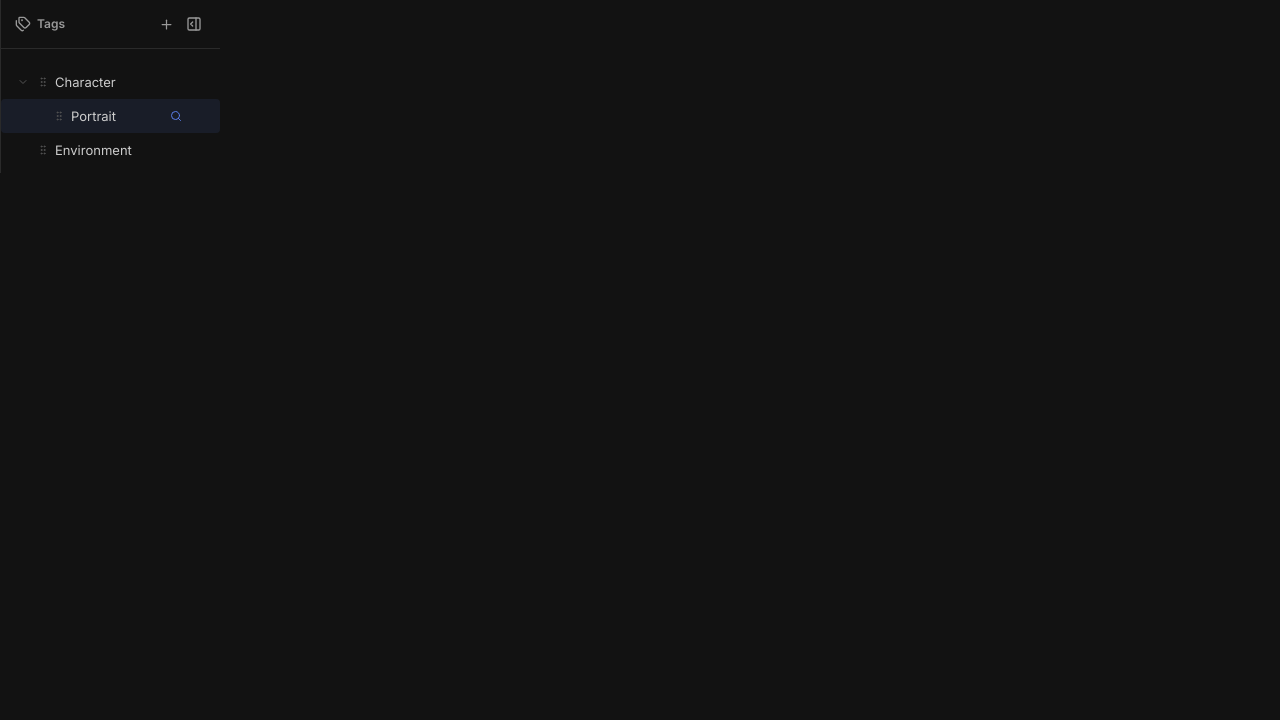
it: TagSidebar › opens and cancels the root create dialog
Click the button named "Create tag": (166, 24) left=155, top=12, right=178, bottom=36
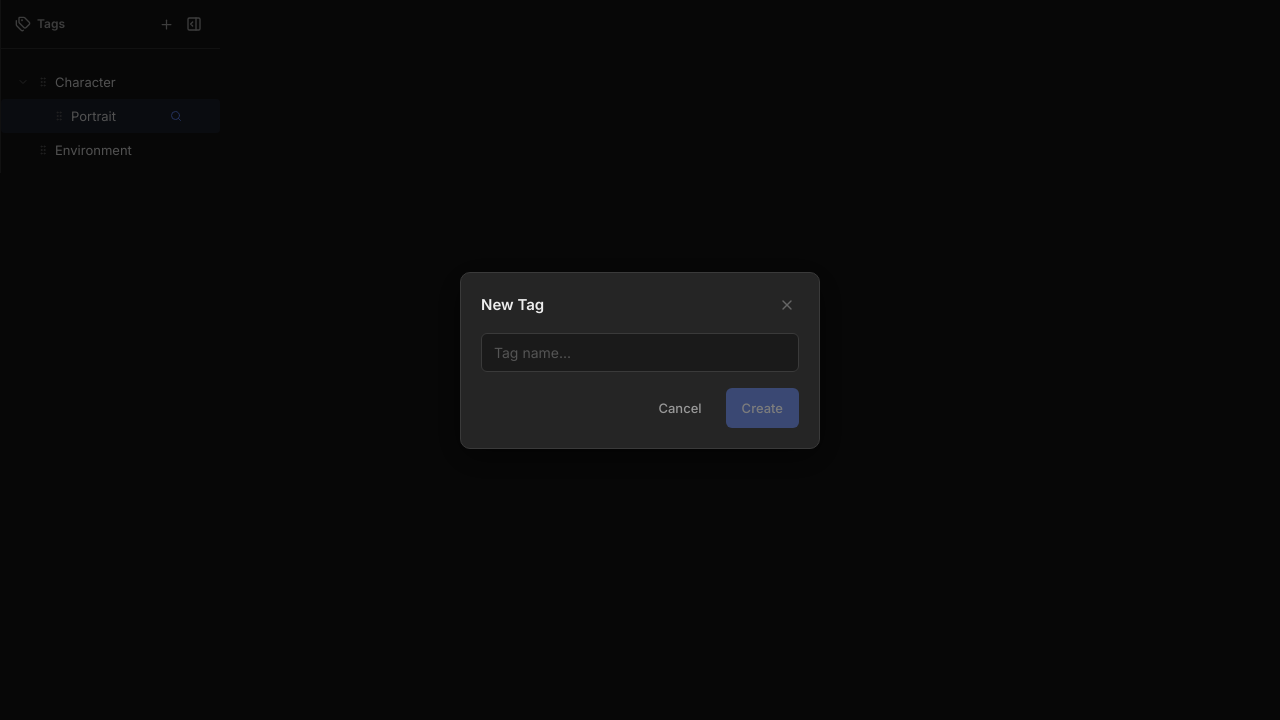
Now the text "New Tag" is shown, box left=481, top=292, right=544, bottom=316
Click the button "Cancel": (680, 408) left=642, top=388, right=718, bottom=428
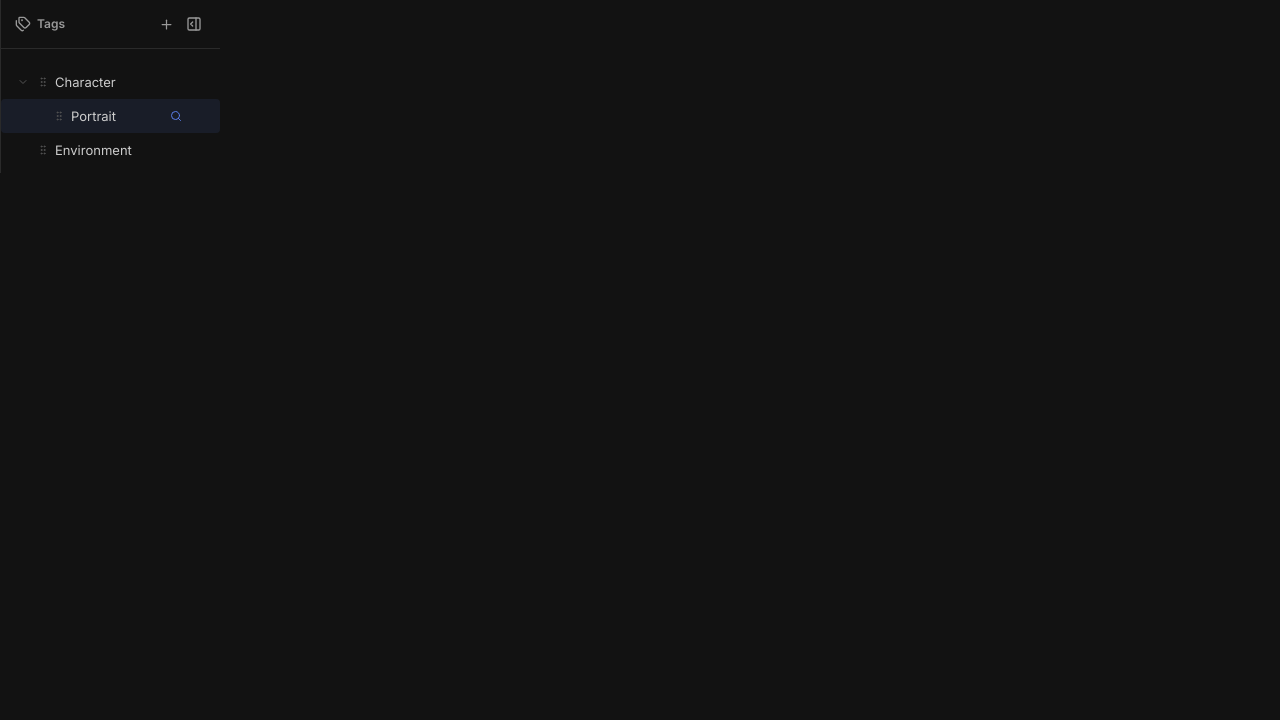
Now the text "New Tag" is gone
